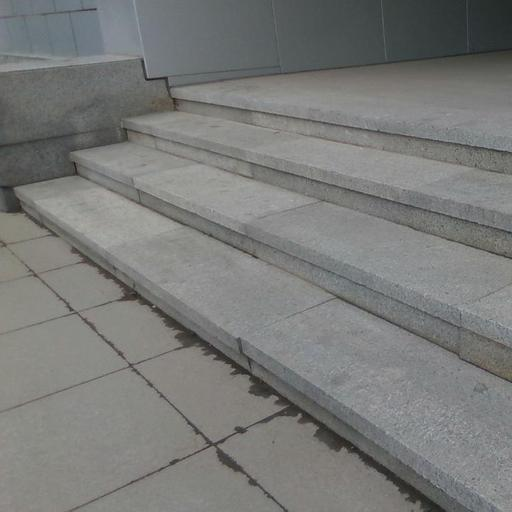stairs: (16, 112, 511, 511)
